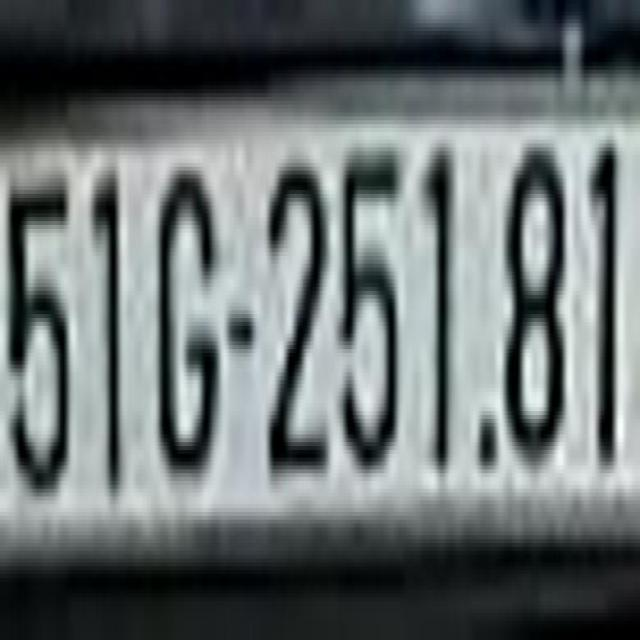1: (576, 97, 635, 489), (81, 120, 135, 528), (415, 93, 463, 493)
2: (262, 112, 333, 512)
5: (3, 132, 77, 516), (338, 89, 406, 497)
8: (504, 105, 573, 492)
G: (151, 112, 222, 512)
